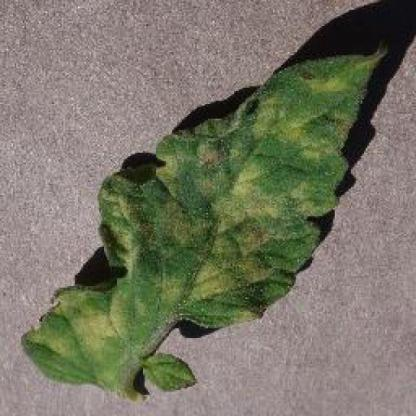Tomato_Leaf_Mold: (22, 50, 378, 380)
